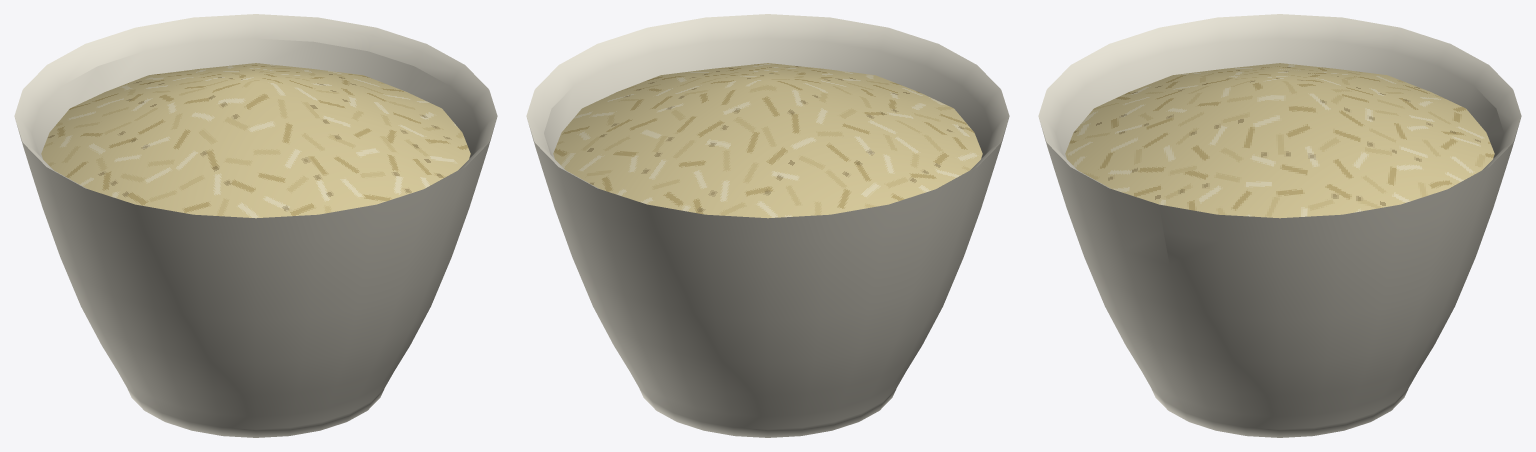
The model's file is LOC_BatGao.glb.
3 renders of one model, left to right at view 1: azimuth 30°, elevation 25°; view 2: azimuth 150°, elevation 25°; view 3: azimuth 270°, elevation 25°, orthographic.
Parts seen in each view (by area): view 1: BatGao; view 2: BatGao; view 3: BatGao.
Part boxes in pixels (x1,y1,x2,y2): BatGao: (14, 14, 497, 437); BatGao: (526, 14, 1009, 437); BatGao: (1038, 14, 1521, 437).
Size of the model in its own units: 0.1146 by 0.079 by 0.1146.
2 materials, 1 textured.
